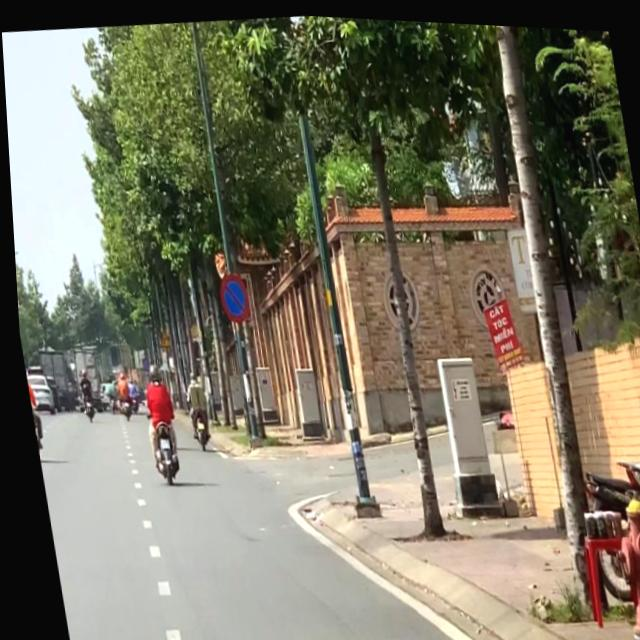Cam do xe: (213, 269, 249, 323)
Cam dung xe va do xe: (137, 355, 145, 370)
cho ngoat nguy hiem vong ben phai: (153, 327, 167, 347)
